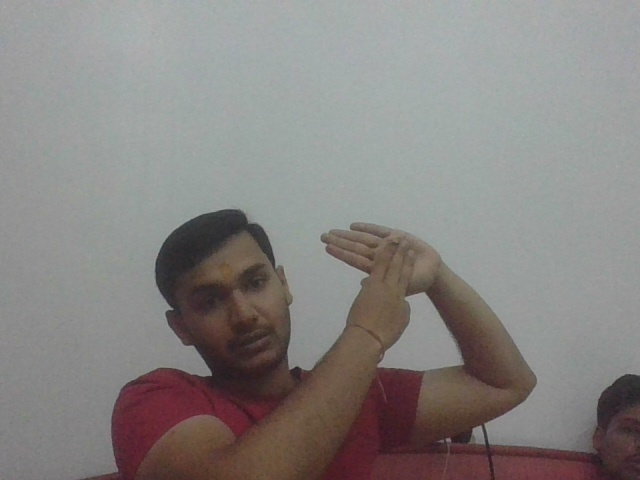M: (322, 220, 439, 317)
